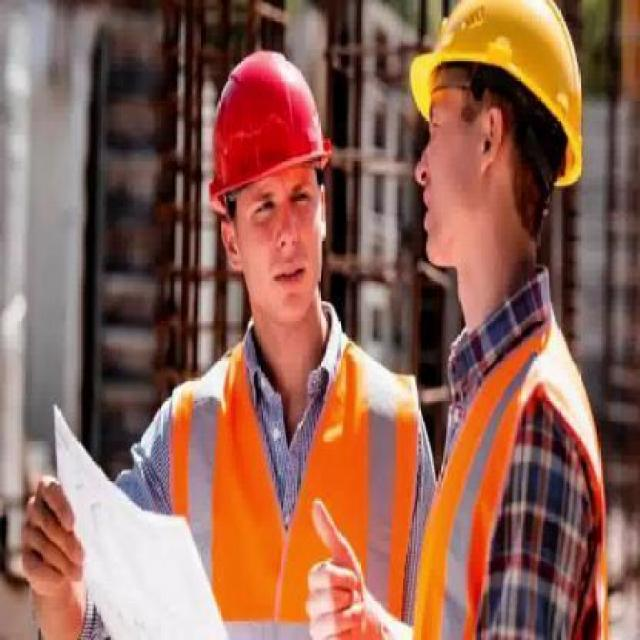Helmet: (409, 0, 586, 194), (209, 46, 334, 220)
Vest: (165, 332, 423, 638), (410, 304, 612, 638)
